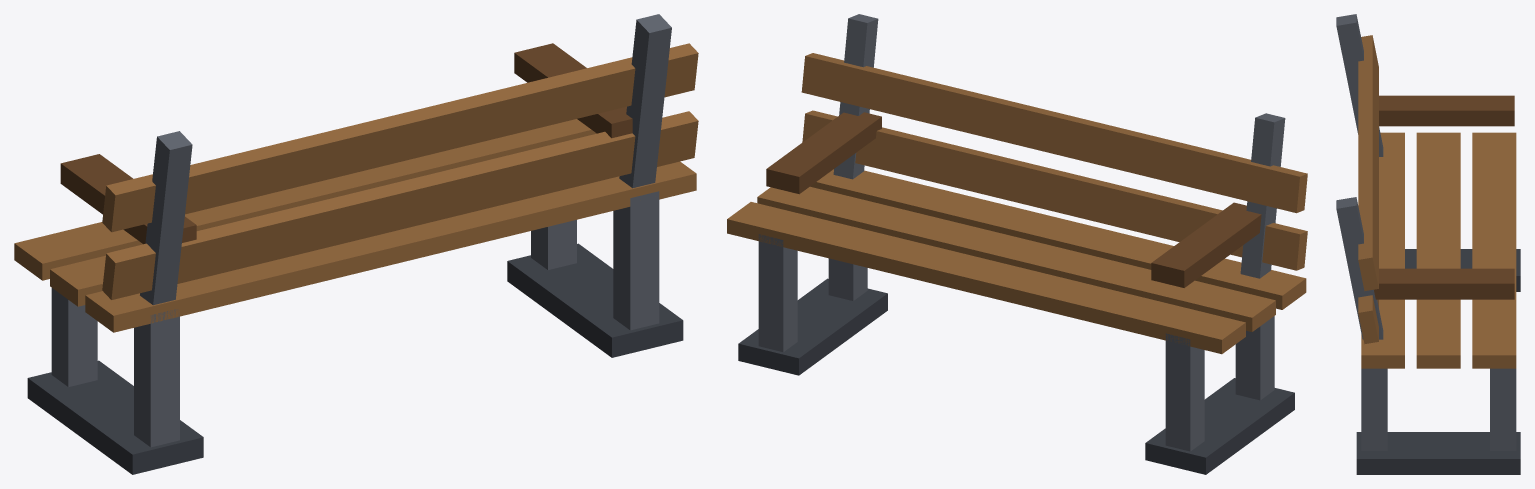
File: prop_bench.glb
The picture shows the model from 3 angles, left to right: view 1: azimuth 30°, elevation 25°; view 2: azimuth 150°, elevation 25°; view 3: azimuth 270°, elevation 25°; orthographic projection. The views are drawn at different scales.
Visible parts, largest first — view 1: SlatBack_1, SlatBack_0, SlatSeat_0, SlatSeat_2, Foot_1, Foot_0, LegB_1, LegB_0, PostBack_0, PostBack_1, LegF_0, Arm_1 (+3 smaller); view 2: SlatBack_0, SlatSeat_2, SlatBack_1, SlatSeat_1, SlatSeat_0, Foot_1, Foot_0, Arm_1, Arm_0, LegF_0, LegF_1, PostBack_0 (+3 smaller); view 3: SlatSeat_2, SlatSeat_1, Foot_1, SlatSeat_0, SlatBack_0, Arm_1, Arm_0, LegB_1, LegF_1, PostBack_1, PostBack_0, SlatBack_1 (+1 smaller).
Boxes of the visible parts, x1,y1,x2,y2 form: SlatBack_1: [102, 111, 698, 299]; SlatBack_0: [102, 43, 698, 232]; SlatSeat_0: [85, 161, 696, 332]; SlatSeat_2: [14, 119, 596, 280]; Foot_1: [507, 243, 683, 357]; Foot_0: [27, 360, 203, 474]; LegB_1: [613, 191, 659, 330]; LegB_0: [134, 309, 179, 447]; PostBack_0: [140, 131, 192, 305]; PostBack_1: [619, 14, 671, 188]; LegF_0: [51, 288, 97, 386]; Arm_1: [514, 43, 632, 138]; SlatBack_0: [801, 53, 1307, 213]; SlatSeat_2: [727, 202, 1245, 354]; SlatBack_1: [802, 110, 1307, 270]; SlatSeat_1: [757, 186, 1275, 331]; SlatSeat_0: [810, 169, 1306, 309]; Foot_1: [738, 278, 887, 375]; Foot_0: [1145, 378, 1294, 474]; Arm_1: [766, 112, 881, 194]; Arm_0: [1151, 202, 1261, 287]; LegF_0: [1165, 333, 1204, 451]; LegF_1: [758, 234, 797, 352]; PostBack_0: [1240, 113, 1285, 278]; SlatSeat_2: [1472, 132, 1516, 368]; SlatSeat_1: [1416, 132, 1460, 368]; Foot_1: [1356, 432, 1520, 474]; SlatSeat_0: [1361, 132, 1404, 368]; SlatBack_0: [1358, 35, 1378, 291]; Arm_1: [1374, 268, 1514, 299]; Arm_0: [1379, 95, 1514, 126]; LegB_1: [1361, 368, 1387, 450]; LegF_1: [1490, 368, 1516, 450]; PostBack_1: [1336, 197, 1383, 339]; PostBack_0: [1336, 14, 1383, 156]; SlatBack_1: [1358, 295, 1378, 344].
Bounding box in the file's own units: 1.8 × 0.9813 × 0.6299.
